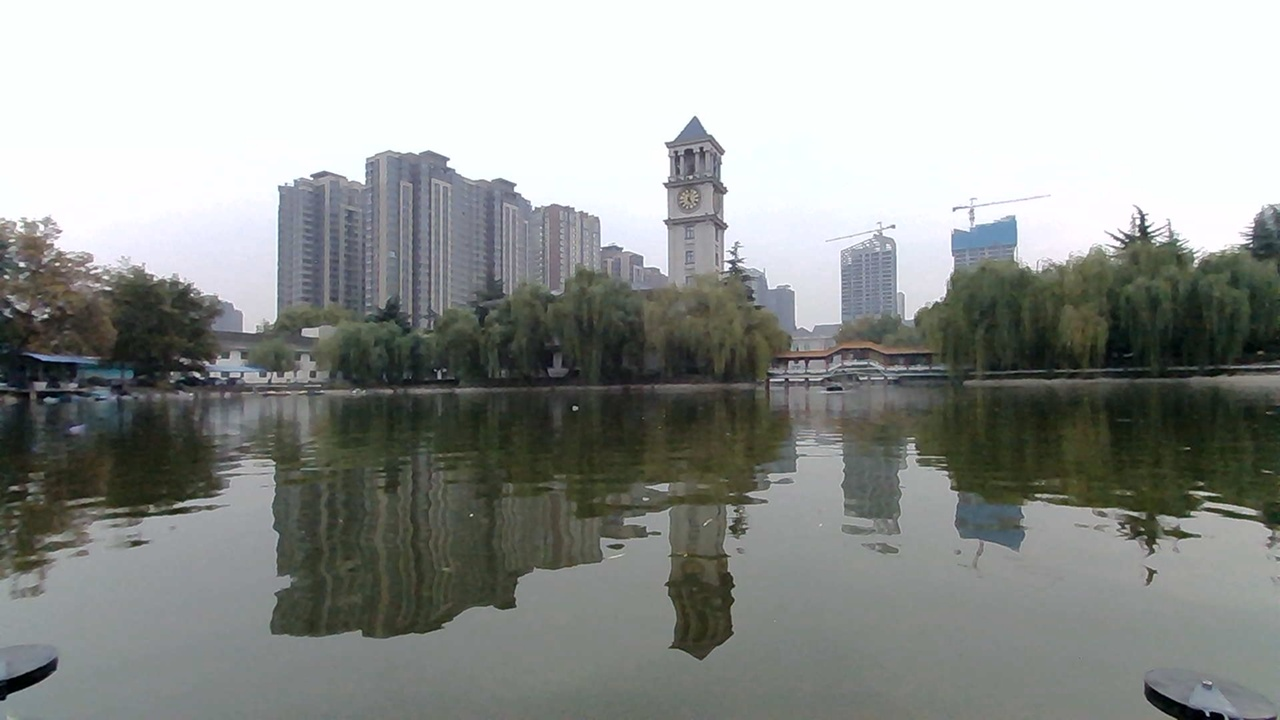bottle: (57, 418, 103, 450), (558, 391, 590, 418)
